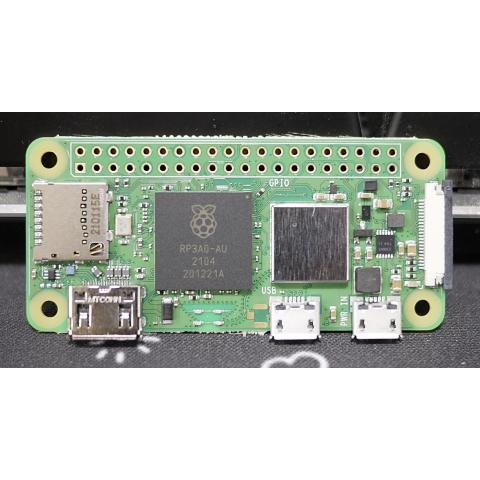Raspberry-Pi-Zero-2-W: (26, 137, 452, 343)
